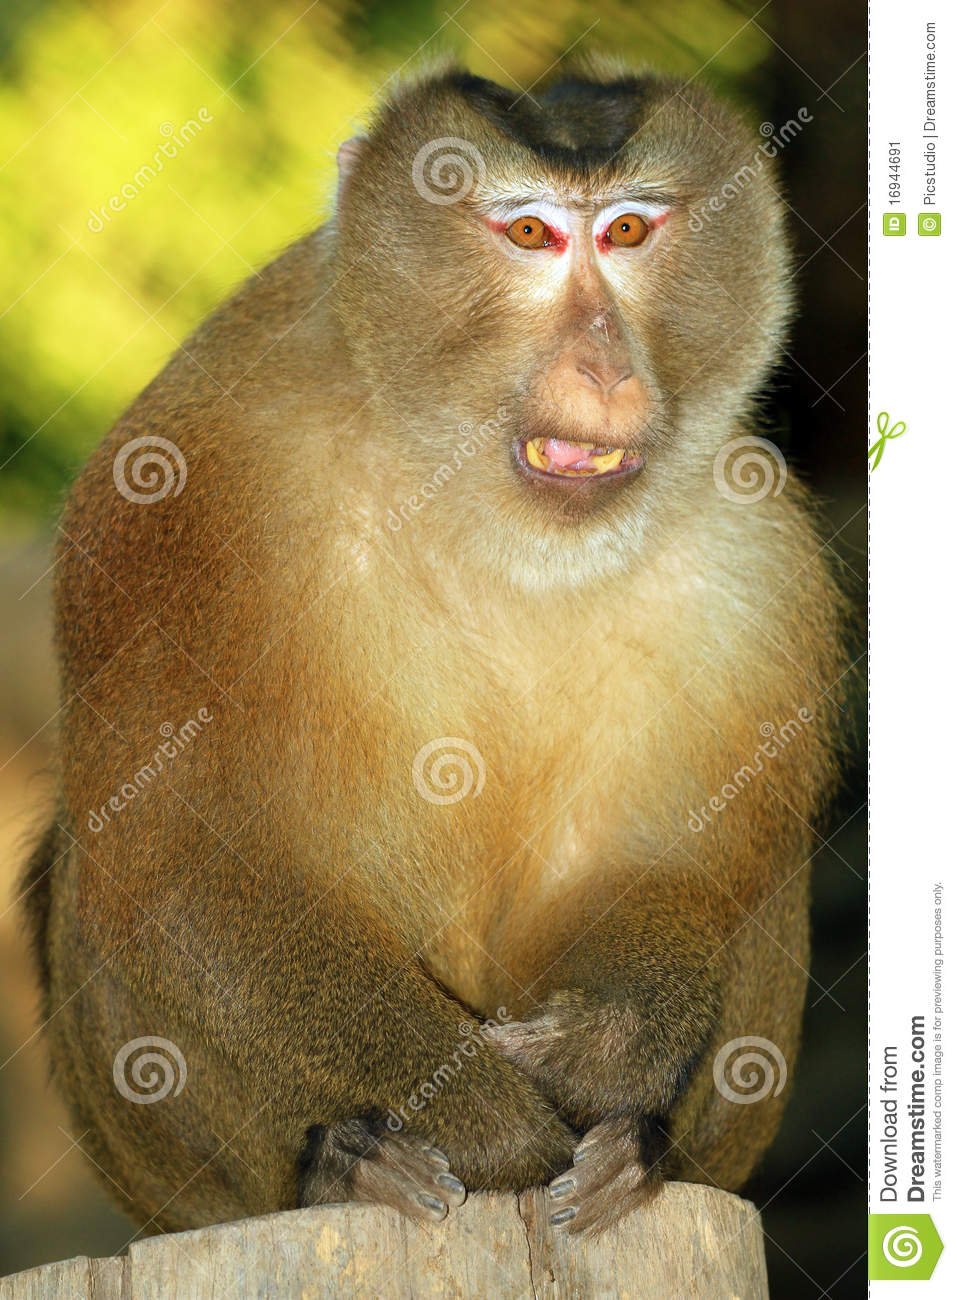monkey: (28, 71, 845, 1275)
